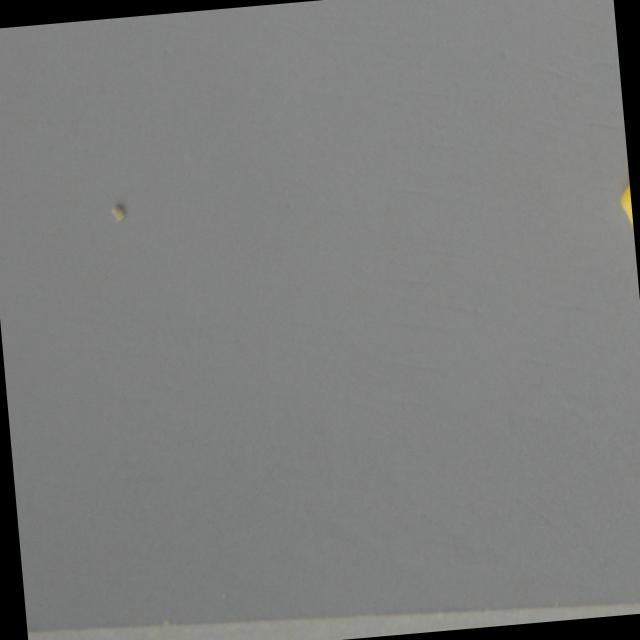dañado: (612, 135, 634, 240)
